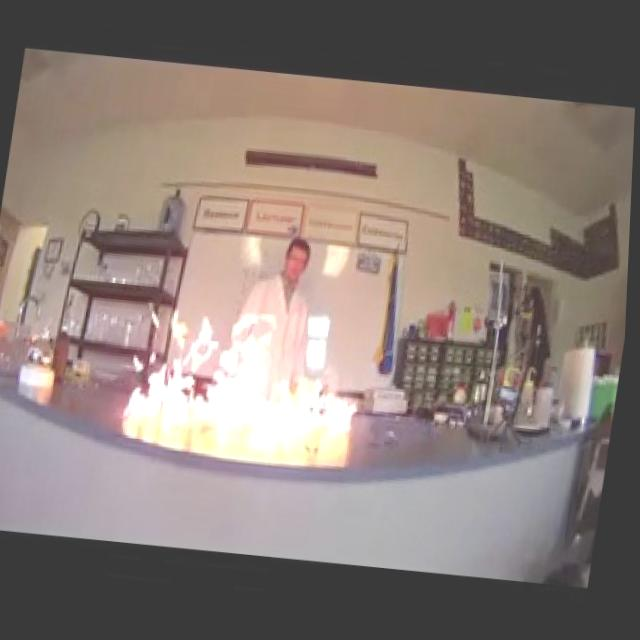helmet: (115, 298, 376, 454)
